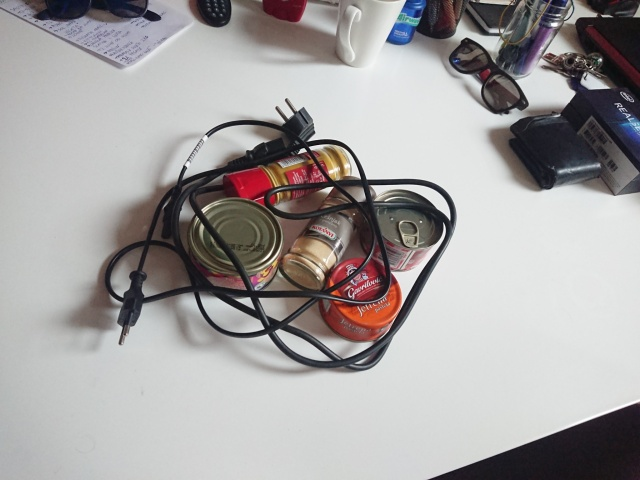Gavrilovic Pork Liver Pate 100g: (317, 255, 404, 345)
Giana Tuna Salad Mexico 185g: (184, 194, 285, 296)
Kotanyi Curry Spices Mix 70g: (220, 142, 354, 215)
Kotanyi Garlic Granules 70g: (275, 174, 379, 294)
Podravka Luncheon Meat 150g: (357, 187, 447, 275)
